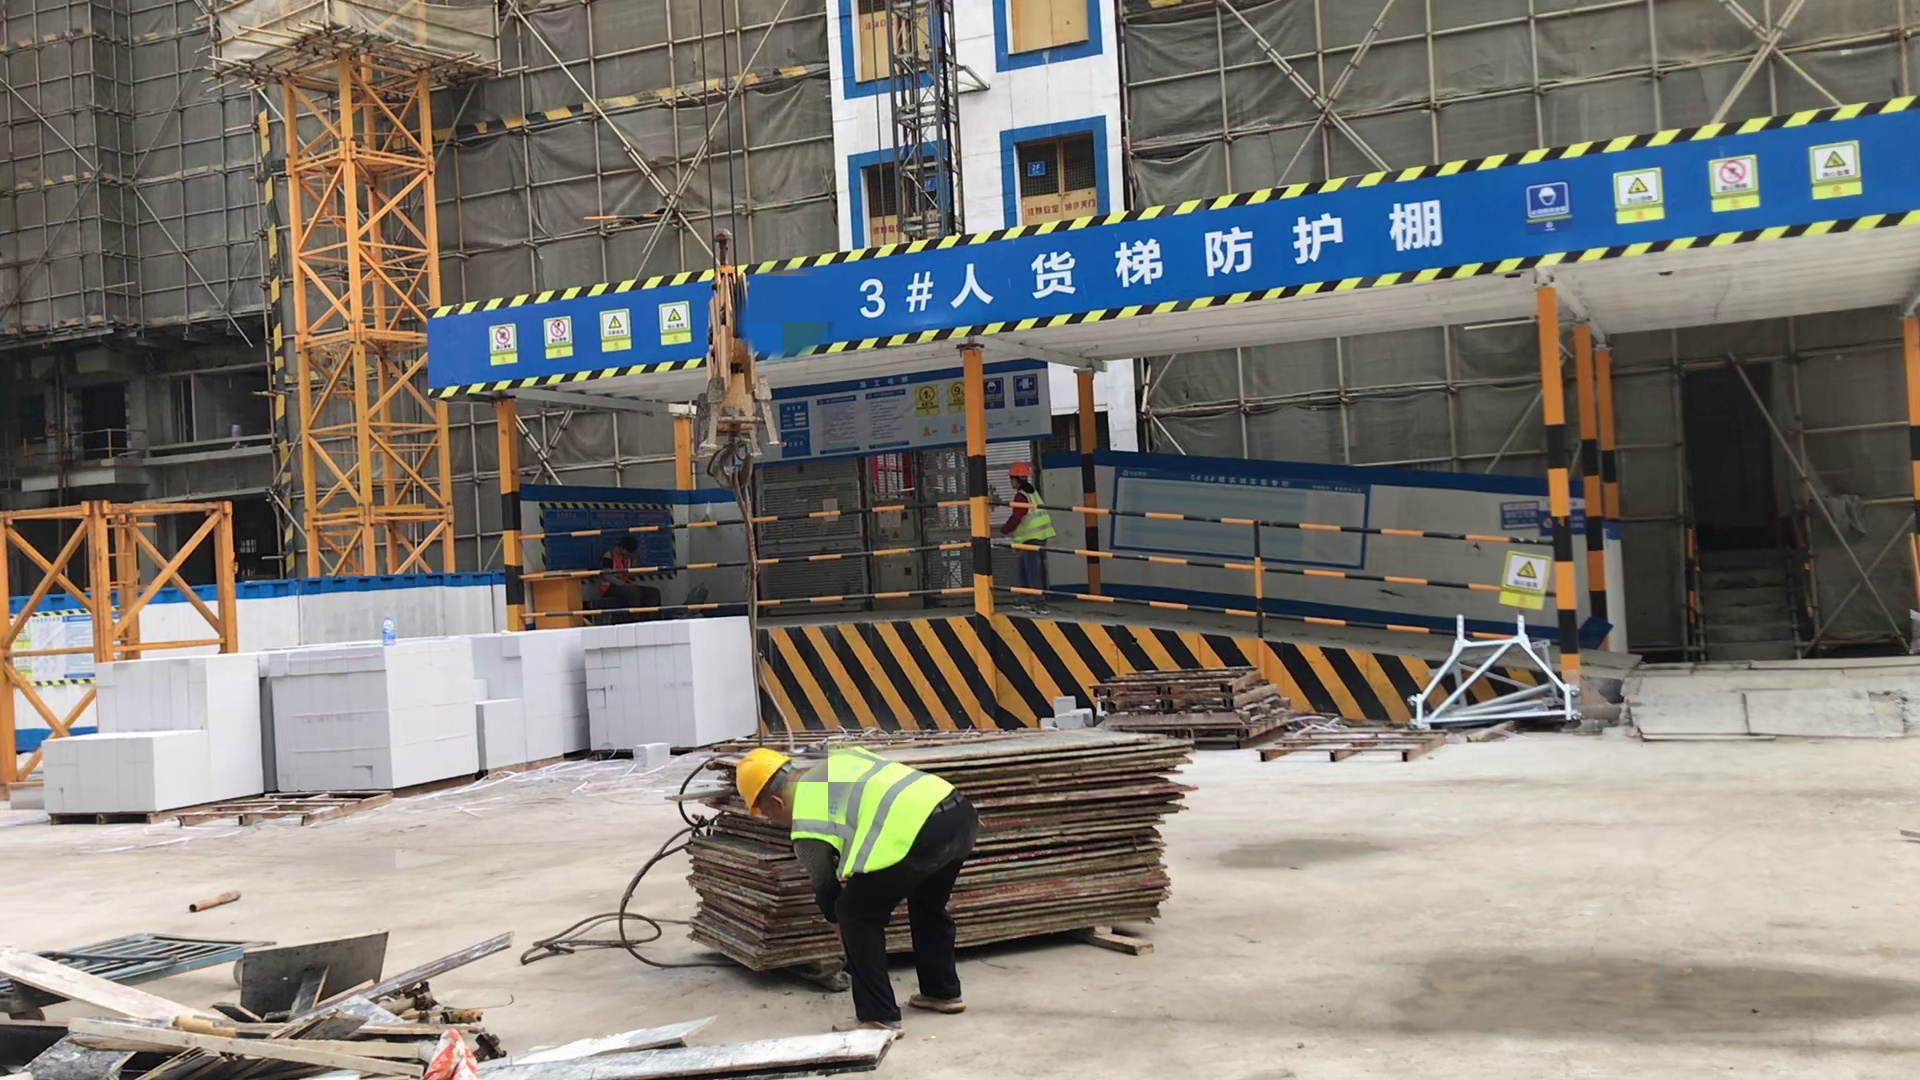board: (676, 730, 1193, 958)
brick: (270, 639, 588, 787), (33, 665, 262, 806), (563, 623, 756, 748)
ebox: (528, 575, 584, 630)
handcart: (1, 932, 258, 1013)
helmet: (733, 743, 787, 816), (1005, 462, 1035, 482)
hook: (690, 228, 777, 497)
person: (738, 743, 975, 1029), (996, 458, 1060, 613), (591, 530, 662, 616)
slogan: (856, 197, 1447, 317), (1511, 134, 1883, 249), (477, 301, 691, 367), (1499, 544, 1549, 620)
vest: (788, 748, 955, 866), (1014, 488, 1057, 543), (600, 547, 631, 590)
